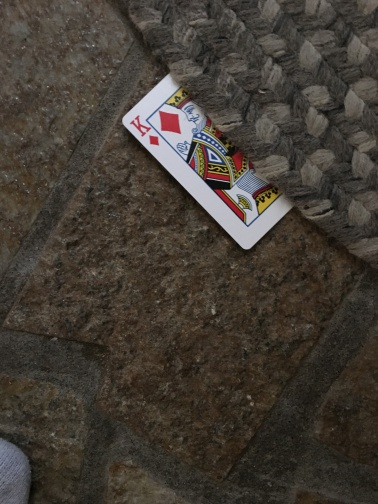king: (121, 71, 300, 248)
